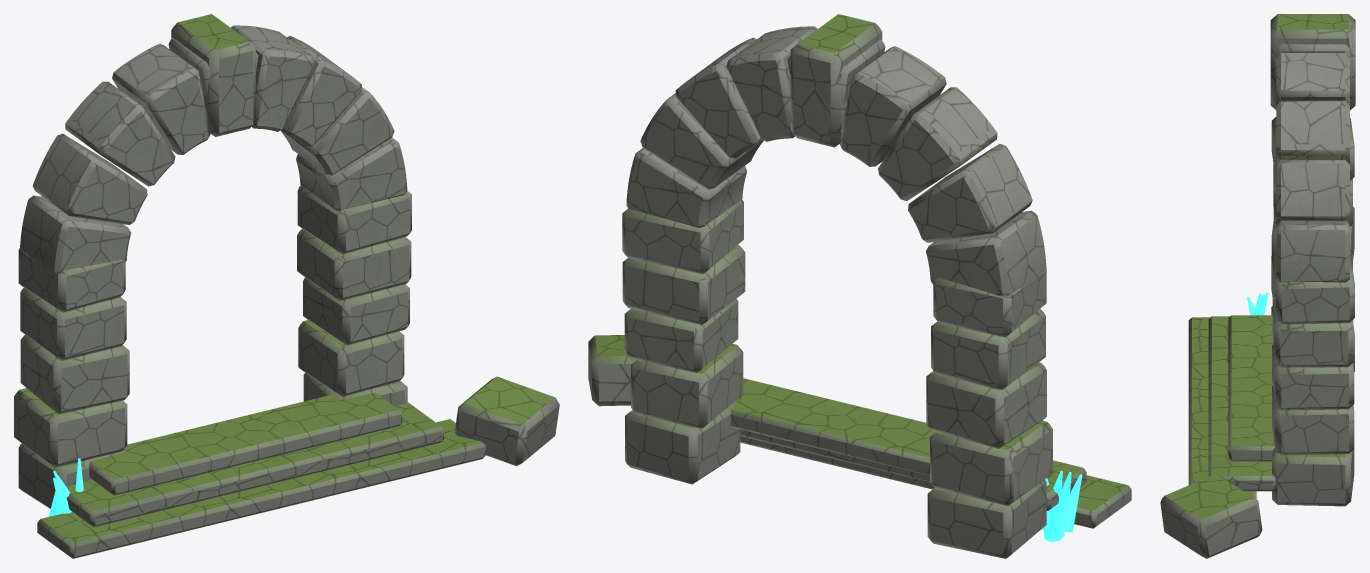
File: stone_arch.glb
3 renders of one model, left to right at view 1: azimuth 30°, elevation 25°; view 2: azimuth 150°, elevation 25°; view 3: azimuth 270°, elevation 25°, orthographic. The views are drawn at different scales.
Parts seen in each view (by area): view 1: stone_arch; view 2: stone_arch; view 3: stone_arch.
Boxes of the visible parts, box(x1,y1,x2,y2) form: stone_arch: box(14, 14, 559, 558); stone_arch: box(588, 14, 1131, 558); stone_arch: box(1160, 14, 1355, 558).
Size of what is drawn, in the model's own units: 9.51 by 8.26 by 3.45.
Materials: 2 (1 with a texture image).
